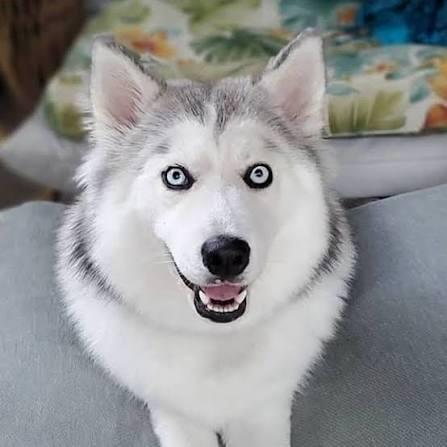adult_dog: (55, 26, 360, 447)
